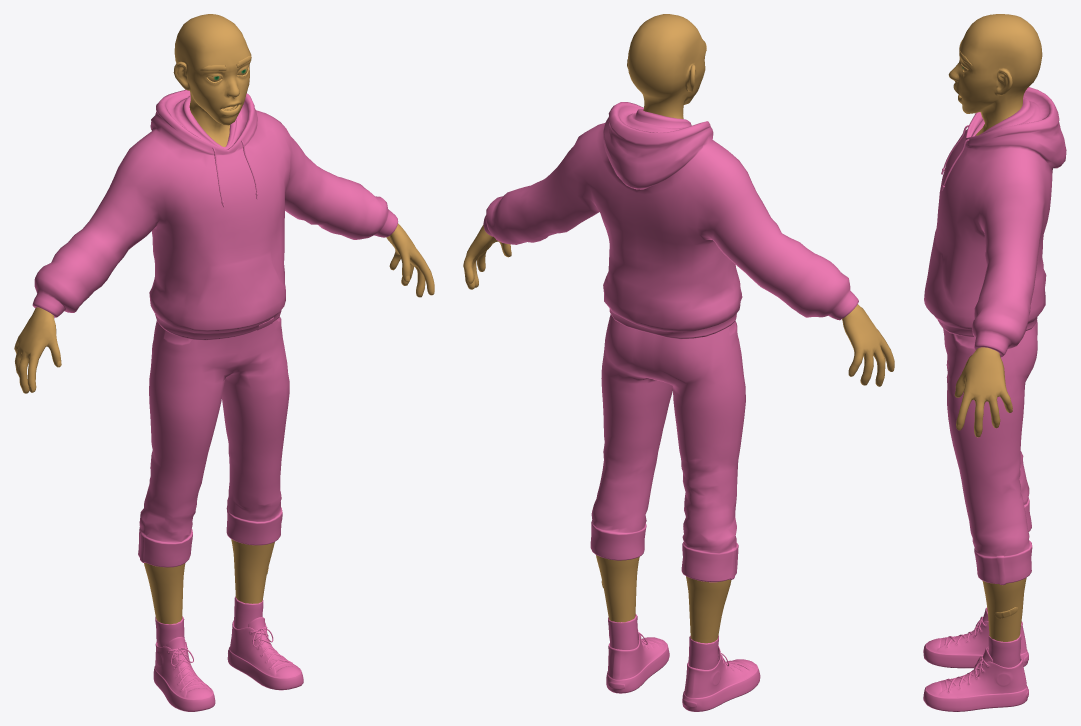
The model's file is ChaseTestModel_03.fbx.
The picture shows the model from 3 angles, left to right: view 1: azimuth 30°, elevation 25°; view 2: azimuth 150°, elevation 25°; view 3: azimuth 270°, elevation 25°; orthographic projection. The views are drawn at different scales.
Visible parts, largest first — view 1: Hoodie_low, Pants_low, Body_low, ShoeBase_low, Socks_low, ShoeTop_low, ShoeLaces_low; view 2: Hoodie_low, Pants_low, Body_low, ShoeBase_low, Socks_low; view 3: Hoodie_low, Pants_low, Body_low, ShoeBase_low, Socks_low, ShoeTop_low, ShoeLaces_low, HoodieStrings_low.
Part boxes in pixels (left/top/right/bottom): Hoodie_low: left=32, top=89, right=398, bottom=340; Pants_low: left=138, top=316, right=289, bottom=567; Body_low: left=14, top=14, right=434, bottom=624; ShoeBase_low: left=153, top=620, right=303, bottom=711; Socks_low: left=155, top=596, right=263, bottom=646; ShoeTop_low: left=166, top=617, right=293, bottom=692; ShoeLaces_low: left=168, top=626, right=292, bottom=690; Hoodie_low: left=483, top=102, right=858, bottom=339; Pants_low: left=590, top=314, right=745, bottom=582; Body_low: left=463, top=14, right=894, bottom=643; ShoeBase_low: left=606, top=633, right=760, bottom=711; Socks_low: left=608, top=614, right=718, bottom=669; Hoodie_low: left=924, top=87, right=1066, bottom=357; Pants_low: left=943, top=320, right=1037, bottom=585; Body_low: left=948, top=14, right=1042, bottom=641; ShoeBase_low: left=923, top=621, right=1028, bottom=711; Socks_low: left=988, top=634, right=1021, bottom=667; ShoeTop_low: left=940, top=607, right=993, bottom=691; ShoeLaces_low: left=944, top=619, right=988, bottom=692; HoodieStrings_low: left=941, top=125, right=969, bottom=190.
Bounding box in the file's own units: 5.19 × 8.01 × 1.56.
